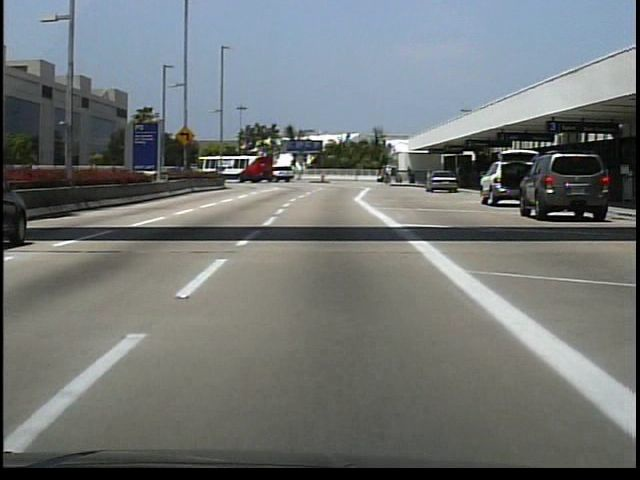person: (455, 162, 467, 189), (384, 164, 393, 187)
